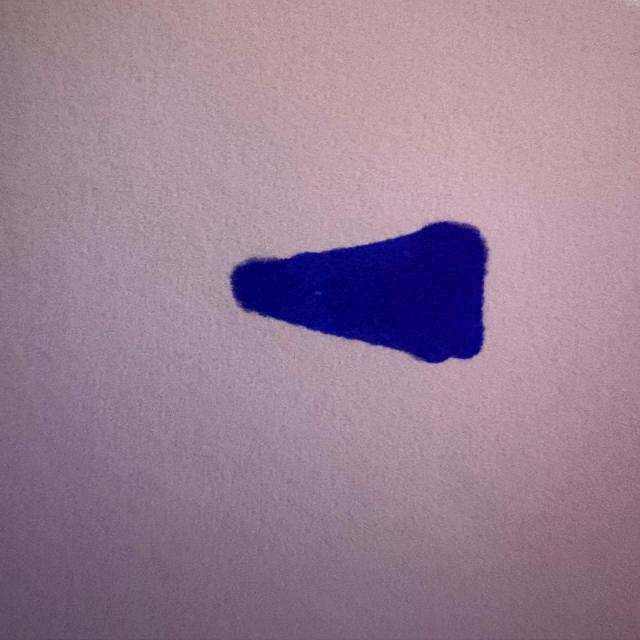Triangle: (223, 218, 488, 366)
